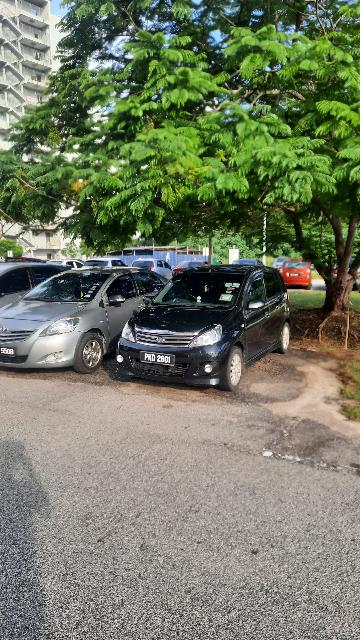License_Plate: (143, 352, 186, 372)
car: (116, 260, 299, 394), (2, 268, 177, 375)
